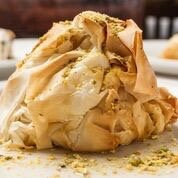soup: (1, 10, 175, 163)
